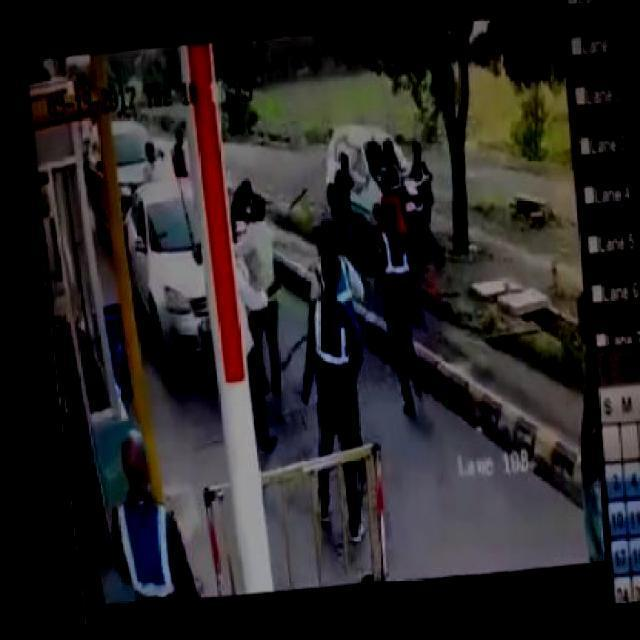fight: (322, 136, 389, 276)
